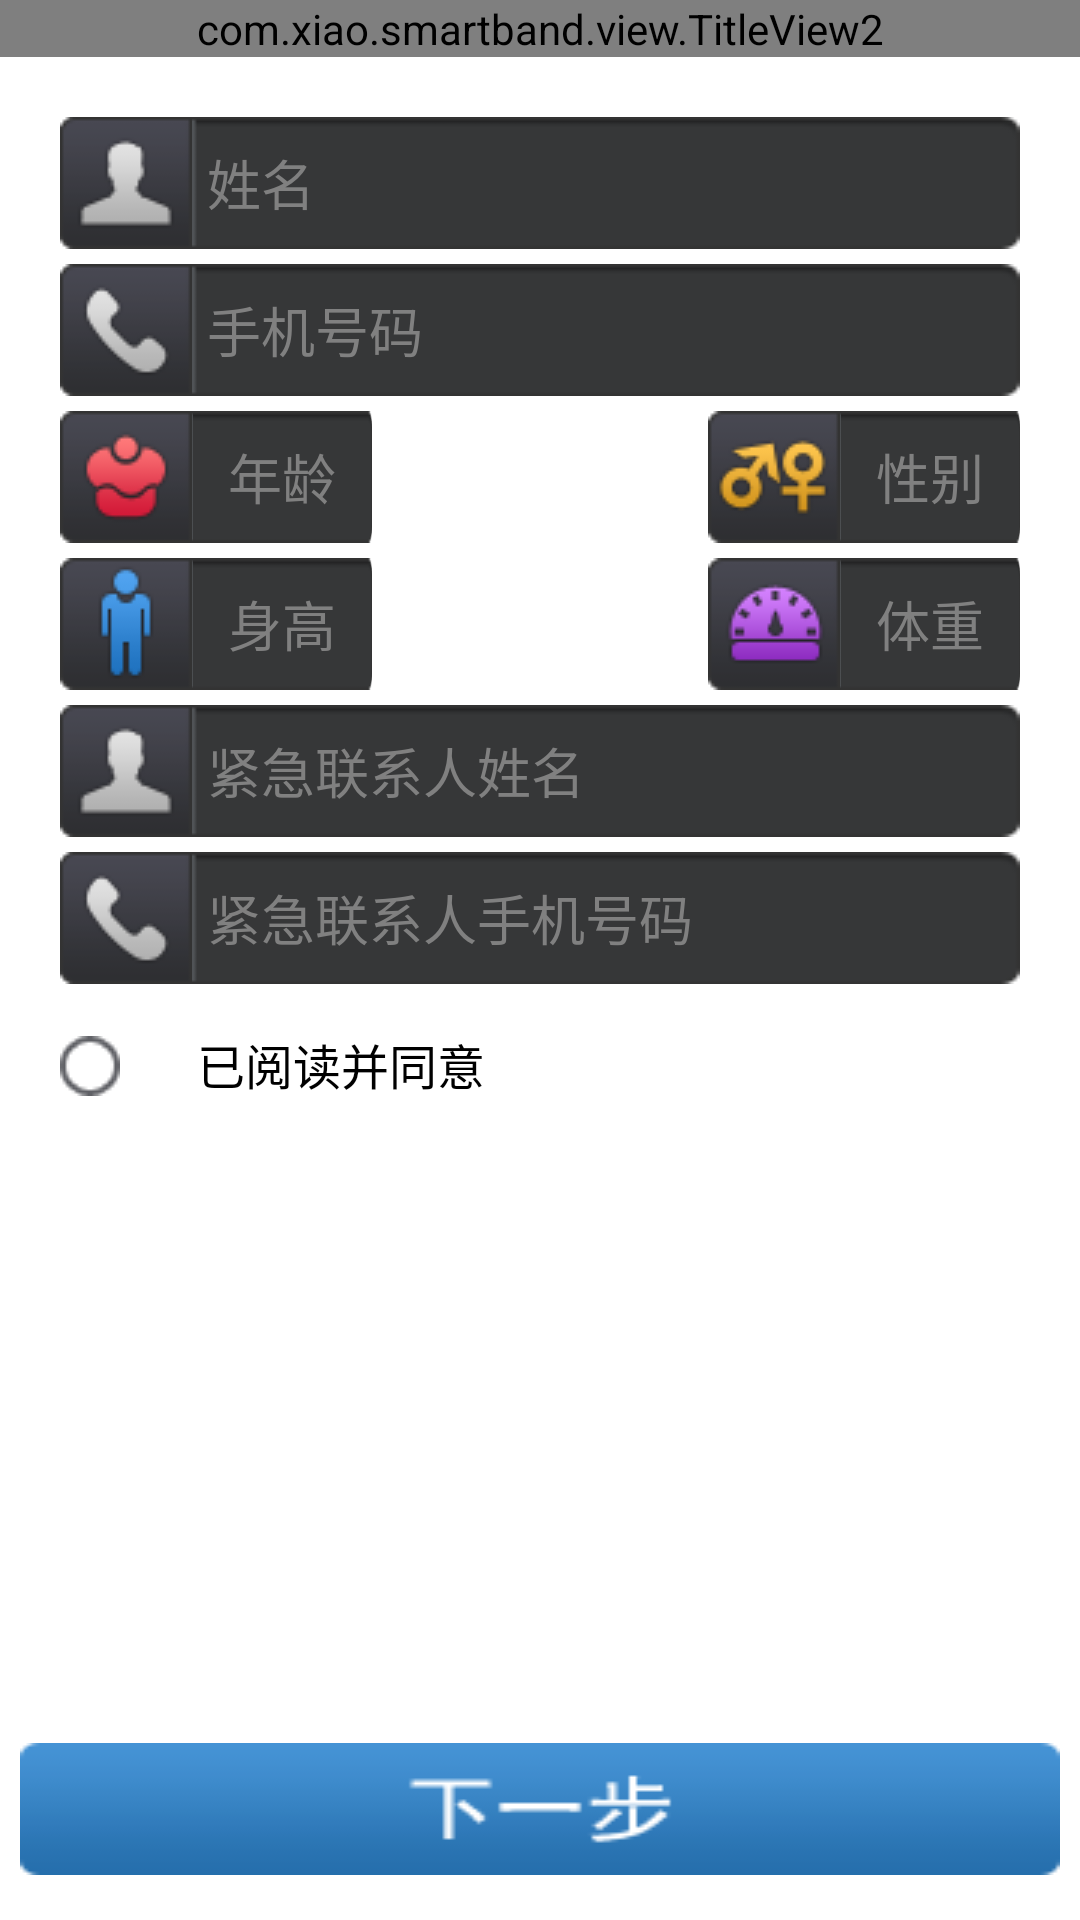

Icon click points for this 1080x1920 phone screenshot, format (x=x, y=y):
age: (x=126, y=477)
height: (x=126, y=624)
sex: (x=774, y=477)
weight: (x=774, y=624)
